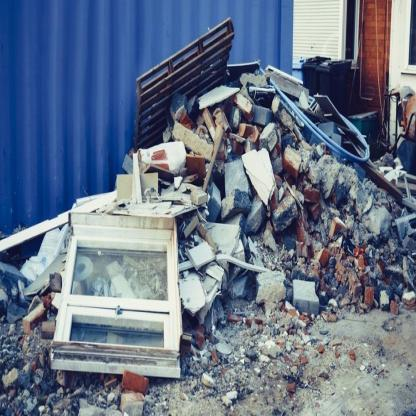brick: (1, 61, 416, 415)
